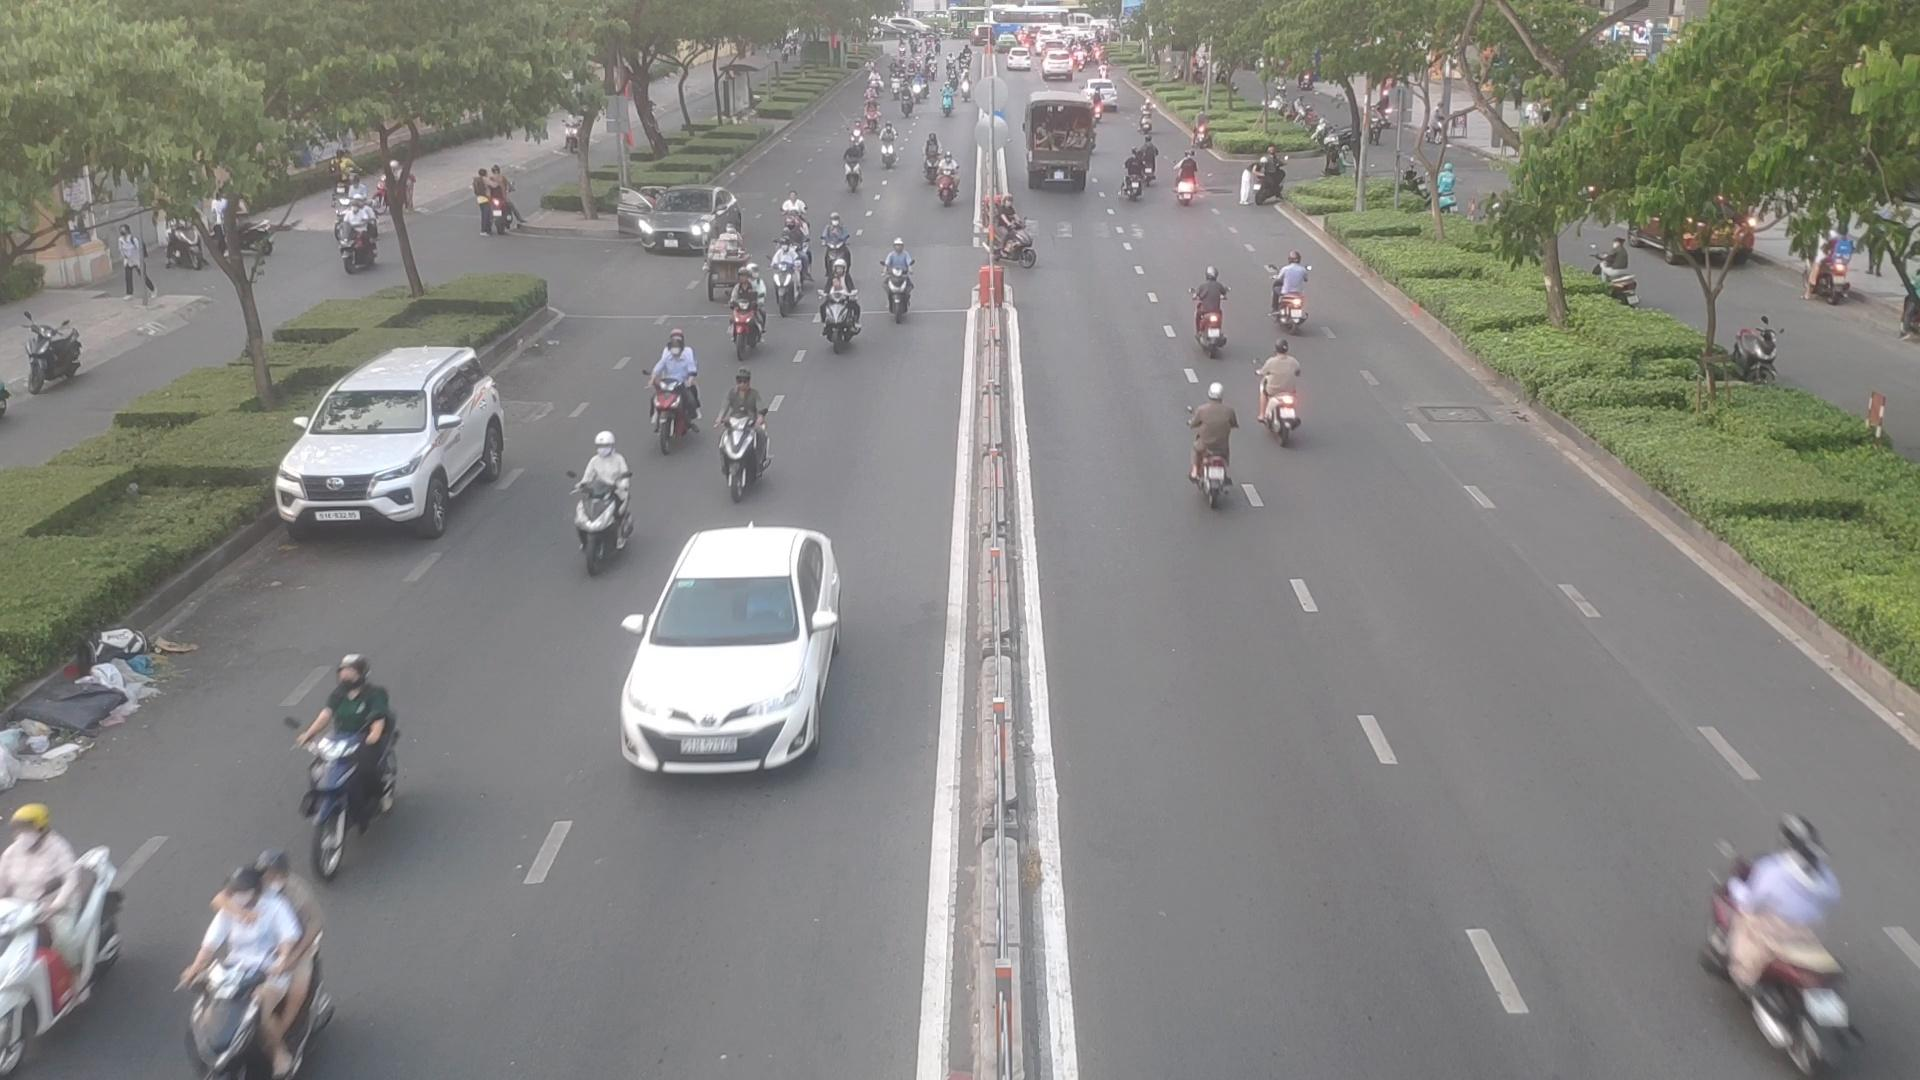car: (612, 529, 847, 773), (272, 345, 512, 537), (618, 187, 735, 255)
motorbike: (1698, 808, 1854, 1047), (185, 873, 349, 1071), (0, 823, 133, 1050), (305, 644, 404, 831), (574, 426, 634, 556), (1184, 377, 1244, 506), (717, 364, 770, 489), (646, 339, 700, 450), (1187, 249, 1237, 359), (881, 229, 928, 323), (1261, 349, 1309, 436), (820, 249, 862, 349), (986, 193, 1040, 266), (1273, 243, 1311, 340), (729, 251, 764, 356), (774, 231, 807, 320), (1174, 144, 1203, 211), (1254, 141, 1284, 204), (936, 146, 967, 207), (1120, 146, 1153, 196), (836, 149, 866, 193)
